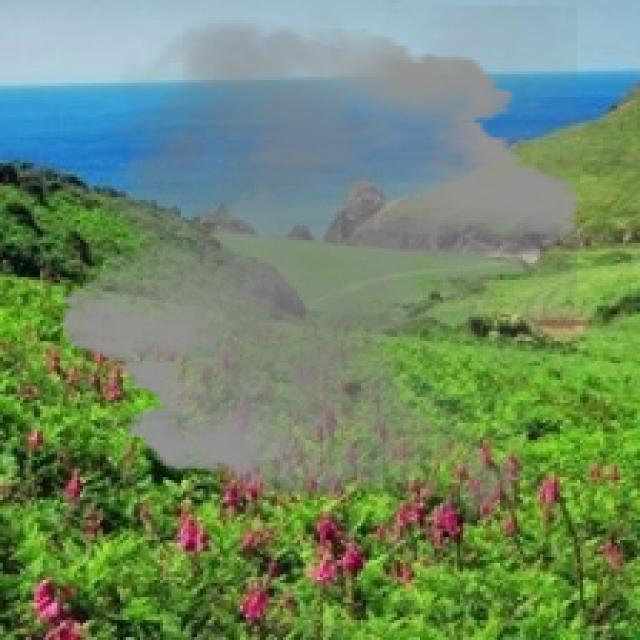Smoke: (42, 6, 598, 534)
